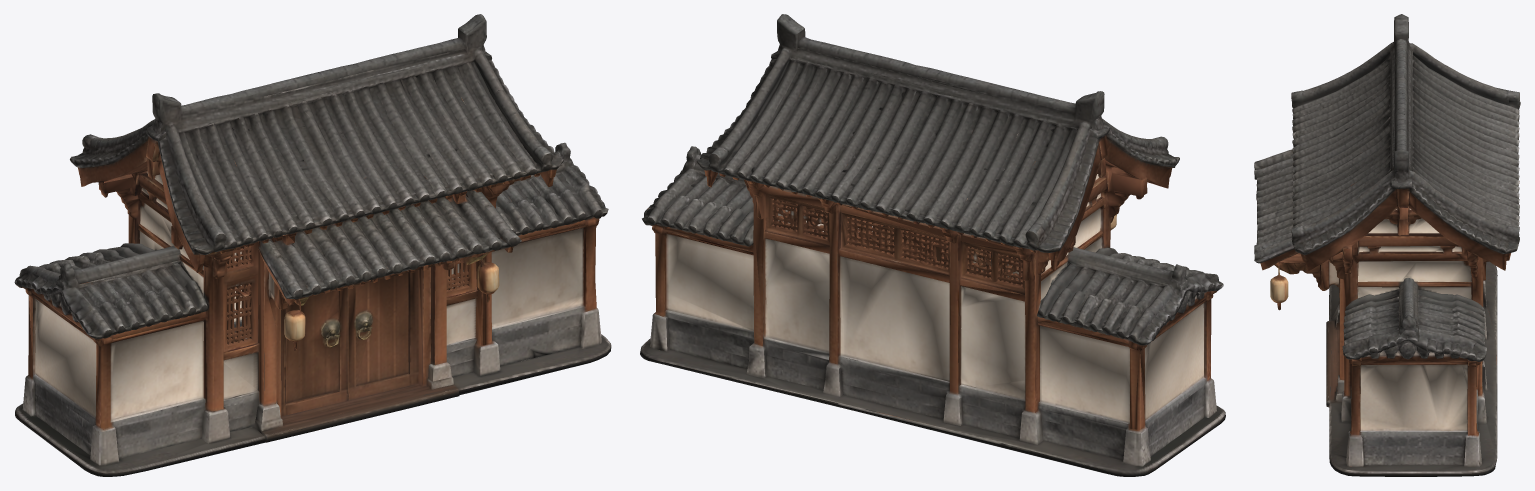
File: 17_Wealthy_Residence_Gatehouse_LOD1.fbx
The picture shows the model from 3 angles, left to right: view 1: azimuth 30°, elevation 25°; view 2: azimuth 150°, elevation 25°; view 3: azimuth 270°, elevation 25°; orthographic projection. The views are drawn at different scales.
Visible parts, largest first — view 1: 17_Wealthy_Residence_Gatehouse_L1; view 2: 17_Wealthy_Residence_Gatehouse_L1; view 3: 17_Wealthy_Residence_Gatehouse_L1.
Boxes of the visible parts, x1,y1,x2,y2 form: 17_Wealthy_Residence_Gatehouse_L1: [14, 14, 611, 476]; 17_Wealthy_Residence_Gatehouse_L1: [640, 14, 1225, 476]; 17_Wealthy_Residence_Gatehouse_L1: [1254, 14, 1520, 476].
Bounding box in the file's own units: 10.65 × 6.5 × 5.49.
